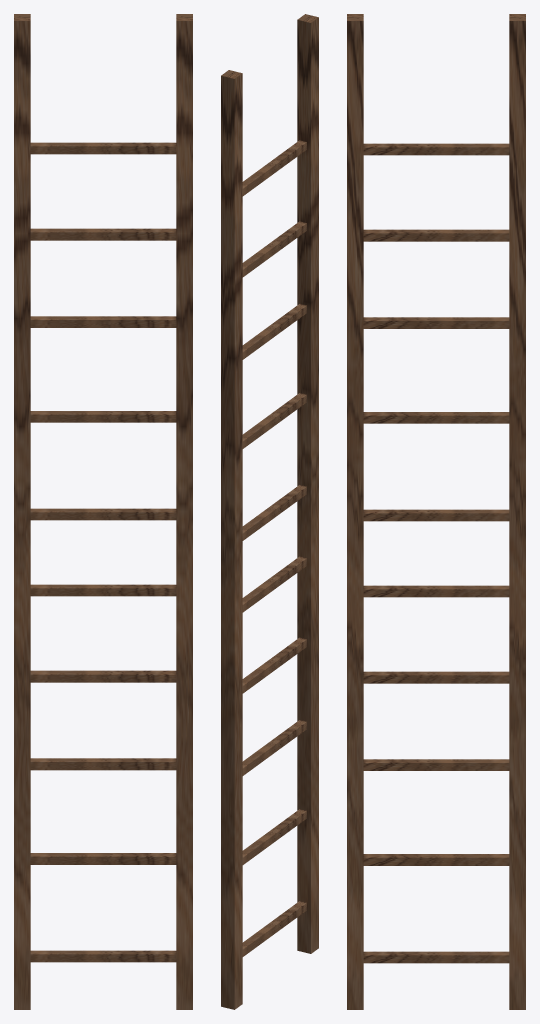
The model's file is ladder.glb.
3 views of the same model, side by side, from view 1: azimuth 90°, elevation 25°; view 2: azimuth 150°, elevation 25°; view 3: azimuth 270°, elevation 25° (orthographic). The views are drawn at different scales.
Parts seen in each view (by area): view 1: Cube.007; view 2: Cube.007; view 3: Cube.007.
Boxes of the visible parts, x1,y1,x2,y2 form: Cube.007: (14, 14, 192, 1009); Cube.007: (221, 14, 318, 1009); Cube.007: (347, 14, 525, 1009).
Size of the model in its own units: 0.0857 by 5.61 by 0.9208.
1 material, 1 textured.
